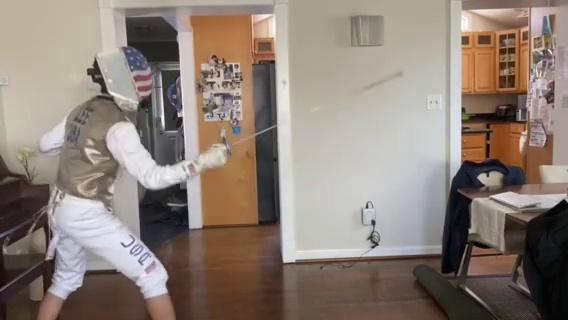blade-guard: (219, 135, 239, 156)
blade-tip: (364, 71, 404, 88)
fencing-blade: (215, 71, 407, 158)
